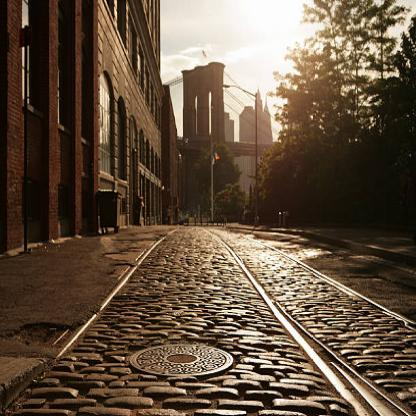manholes: (119, 324, 240, 403)
